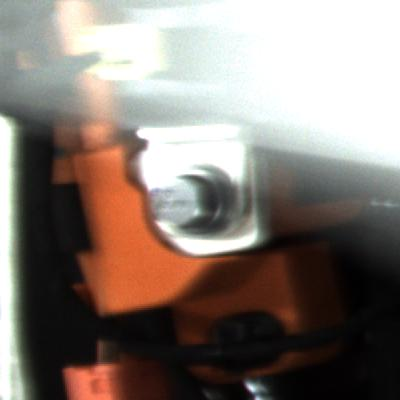nut_b: (146, 165, 249, 243)
